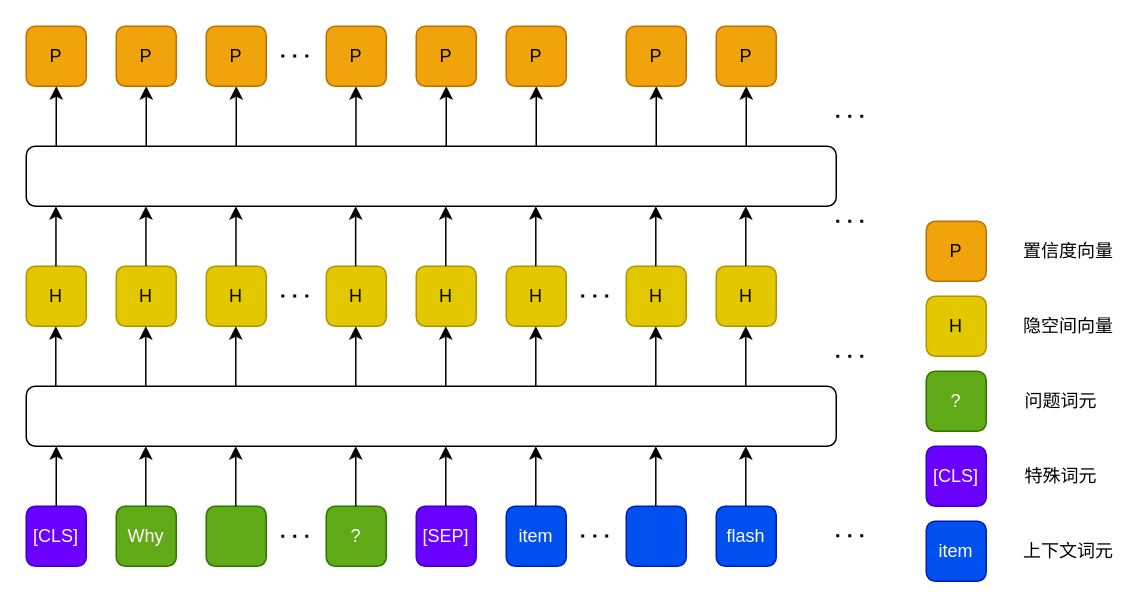
Image size: 1148x608. Some labels were removed from this diagram. Here are the shapes that lost their labels. From the top down, the centre of each, then its label:
At point (430, 175): "线性单元".
At point (430, 415): "Transformer编码器".
At point (235, 535): "is".
At point (655, 535): "no".
